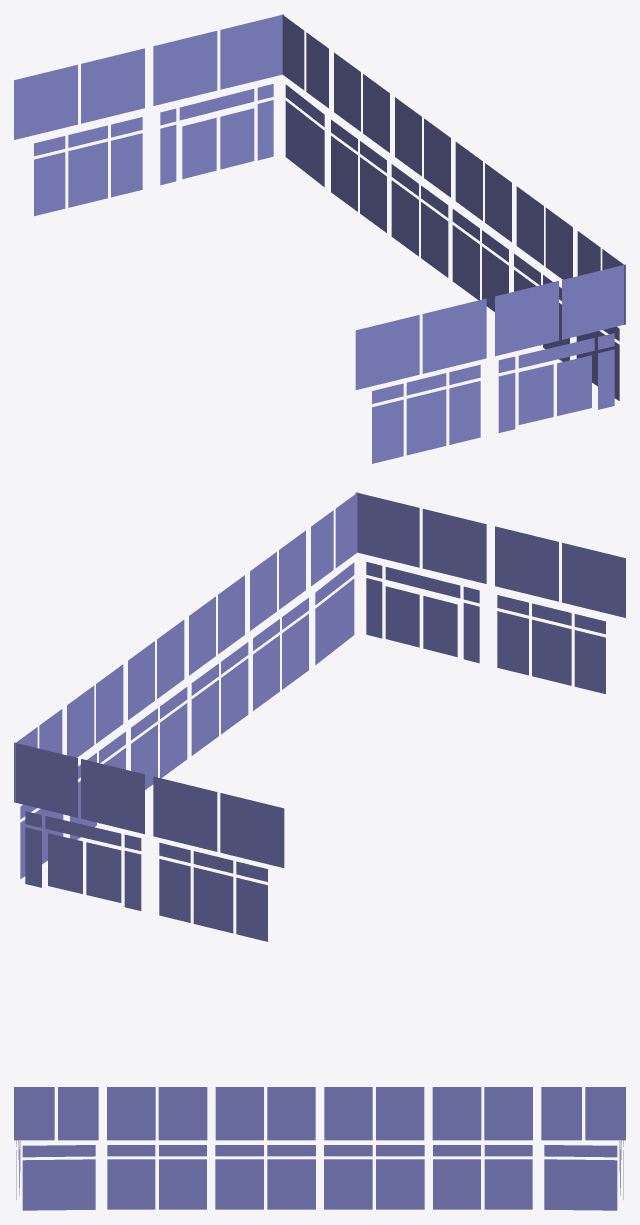
File: base-windows.fbx
The picture shows the model from 3 angles, top to bottom: view 1: azimuth 30°, elevation 25°; view 2: azimuth 150°, elevation 25°; view 3: azimuth 270°, elevation 25°; orthographic projection. The views are drawn at different scales.
Visible parts, largest first — view 1: base-windows; view 2: base-windows; view 3: base-windows.
Boxes of the visible parts, left/top/right/bottom form: base-windows: left=14, top=14, right=625, bottom=463; base-windows: left=14, top=492, right=625, bottom=941; base-windows: left=14, top=1087, right=625, bottom=1210.
Bounding box in the file's own units: 11.64 × 5.73 × 25.64.
